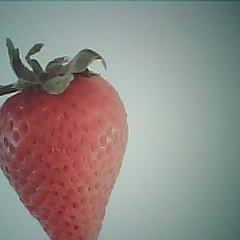straw-ripe: (0, 71, 131, 240)
